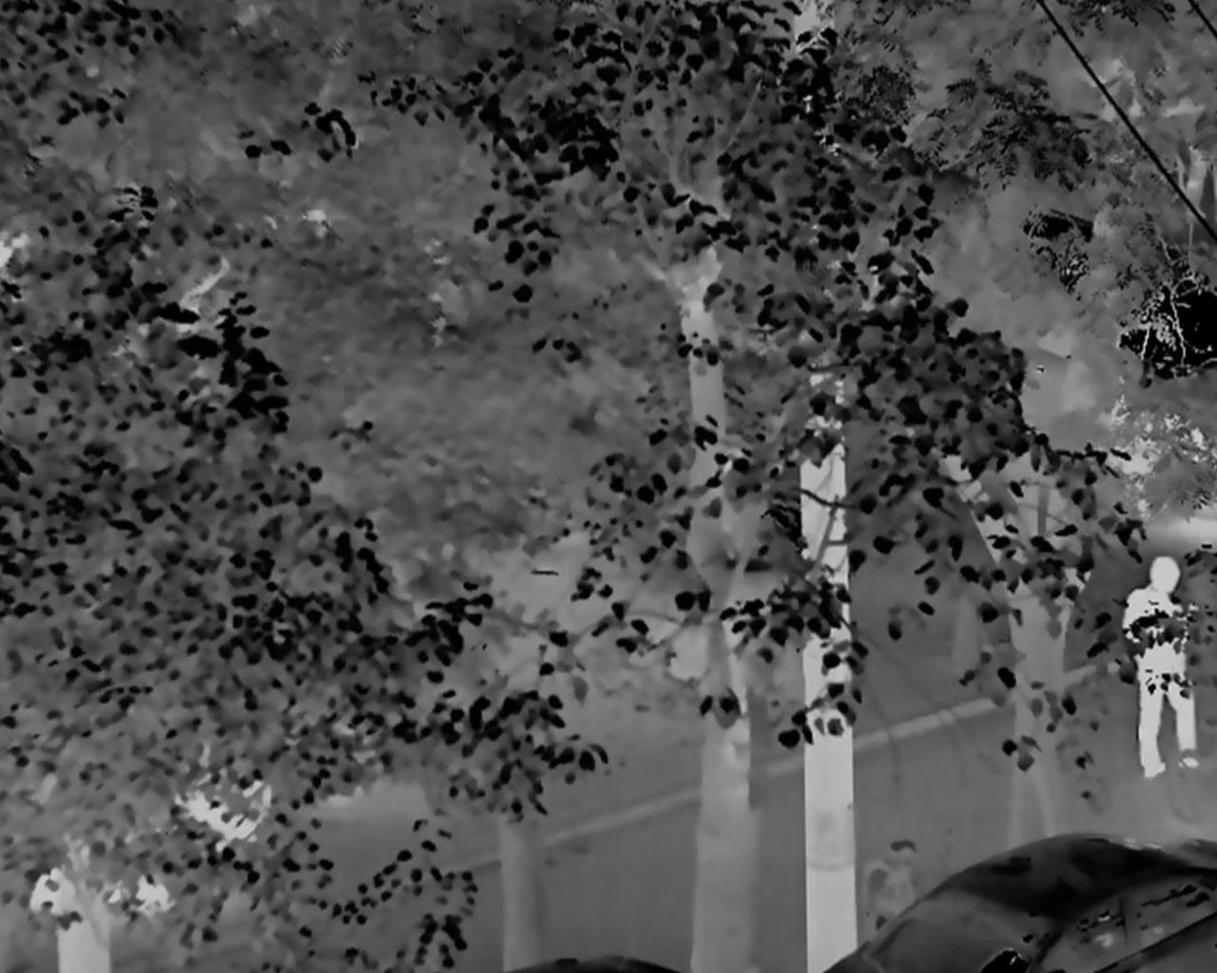person: (1126, 553, 1205, 784)
